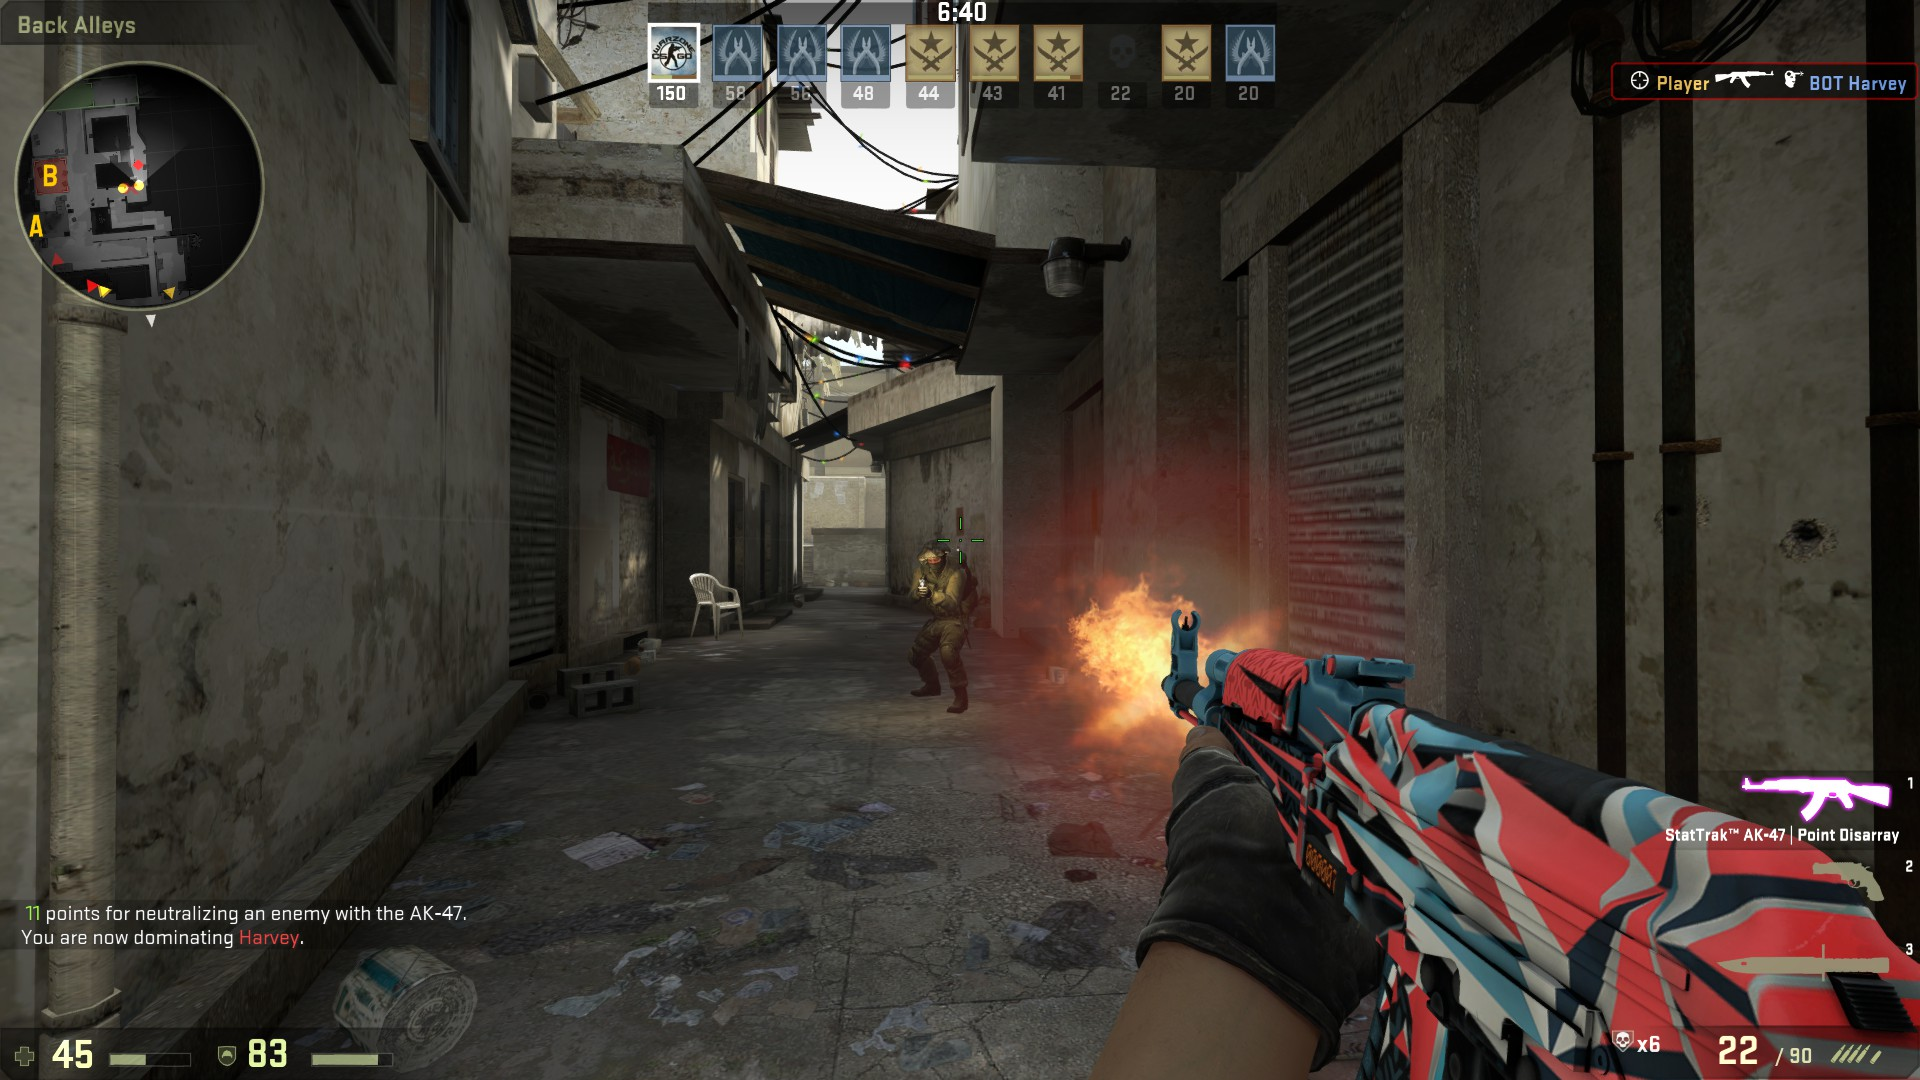c: (909, 539, 978, 713)
ch: (920, 541, 953, 578)
